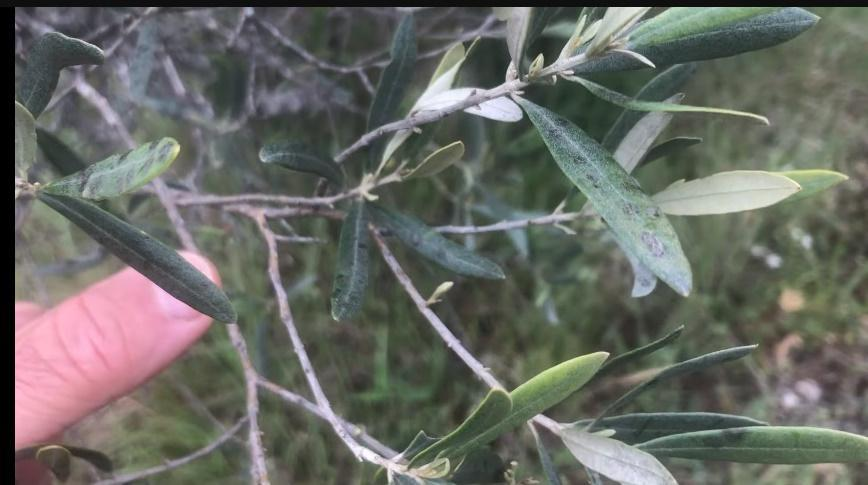OlivePeacockSpot: (516, 97, 696, 301), (38, 195, 239, 327), (369, 204, 506, 284), (39, 134, 182, 201), (642, 427, 866, 469), (330, 207, 372, 324)
